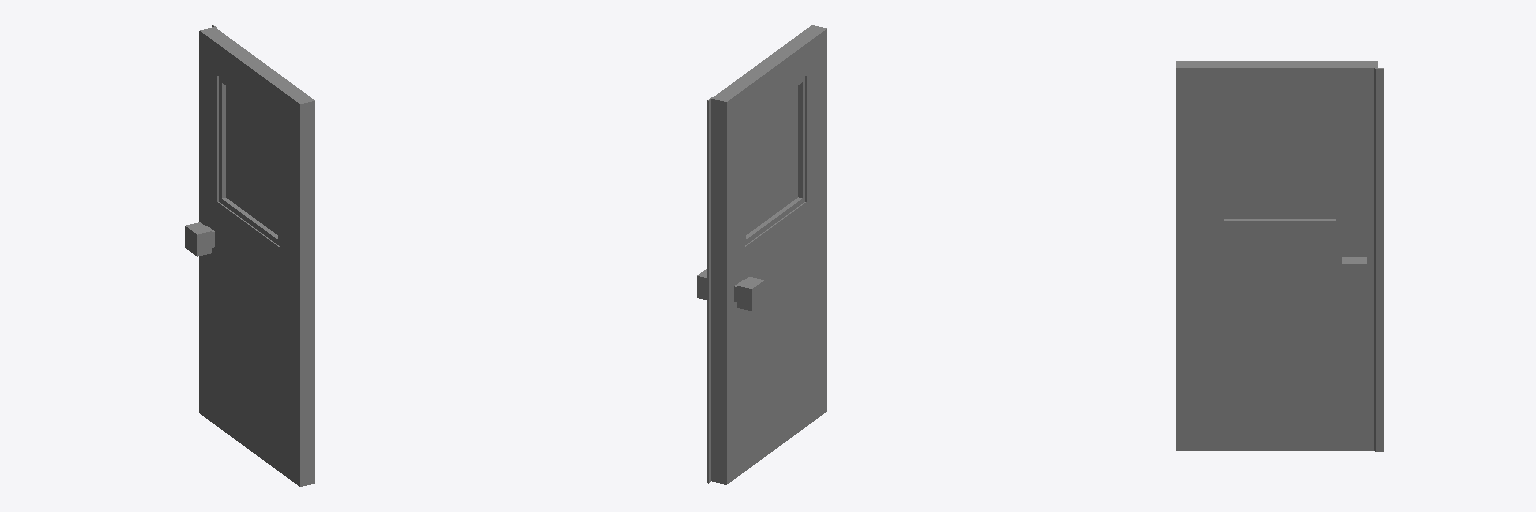
File: Science_room_door_left(window).obj
The picture shows the model from 3 angles: view 1: azimuth 30°, elevation 25°; view 2: azimuth 150°, elevation 25°; view 3: azimuth 270°, elevation 25°; orthographic projection.
Parts seen in each view (by area): view 1: ????_?_??_; view 2: ????_?_??_; view 3: ????_?_??_.
Part boxes in pixels (left/top/right/bottom): ????_?_??_: left=185, top=25, right=314, bottom=486; ????_?_??_: left=697, top=25, right=826, bottom=484; ????_?_??_: left=1176, top=61, right=1383, bottom=451.
Size of the model in its own units: 0.3883 by 2.58 by 1.26.